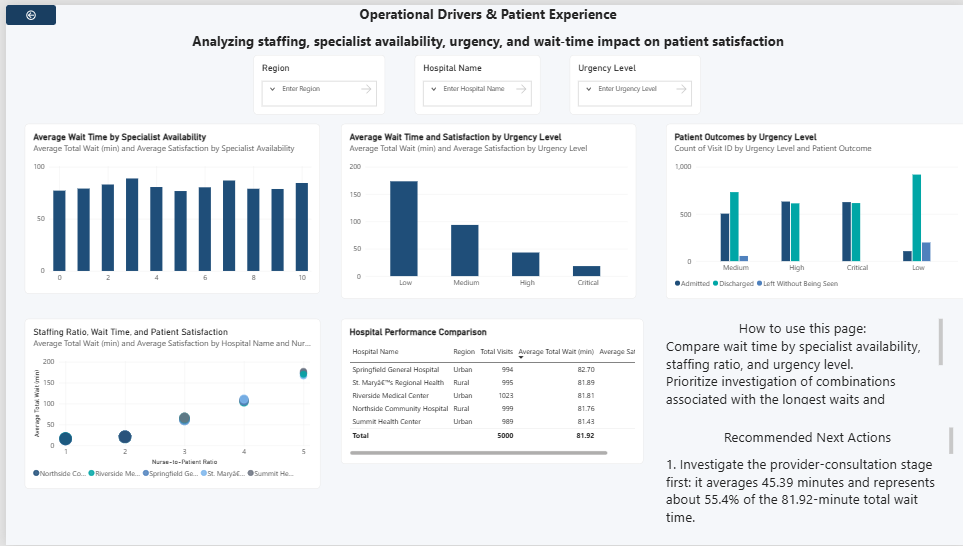

This screenshot's page, from the dashboard's own definition file:
{"tool":"powerbi","page":{"name":"Operational Drivers & Patient Experience","canvas":[1920,1080],"ordinal":1},"visuals":[{"type":"textbox","box":[35,0,1858.7,119.4],"z":0},{"type":"clusteredColumnChart","title":"Average Wait Time by Specialist Availability","fields":{"Category":["ER_Visits.Specialist Availability"],"Y":["ER_Visits.Average Total Wait (min)"]},"box":[37,236.7,590.7,339.6],"z":1000},{"type":"scatterChart","title":"Staffing Ratio, Wait Time, and Patient Satisfaction","fields":{"Series":["ER_Visits.Hospital Name"],"Size":["ER_Visits.Average Satisfaction"],"X":["ER_Visits.Nurse-to-Patient Ratio"],"Y":["ER_Visits.Average Total Wait (min)"]},"box":[37,627.8,591,340],"z":2000},{"type":"clusteredColumnChart","title":"Average Wait Time and Satisfaction by Urgency Level","fields":{"Category":["ER_Visits.Urgency Level"],"Y":["ER_Visits.Average Total Wait (min)"]},"box":[669,236.7,590.7,349.9],"z":3000},{"type":"clusteredColumnChart","title":"Patient Outcomes by Urgency Level","fields":{"Category":["ER_Visits.Urgency Level"],"Series":["ER_Visits.Patient Outcome"],"Y":["CountNonNull(ER_Visits.Visit ID)"]},"box":[1319.4,236.7,601,350],"z":4000},{"type":"tableEx","title":"Hospital Performance Comparison","fields":{"Values":["ER_Visits.Hospital Name","ER_Visits.Region","ER_Visits.Total Visits","ER_Visits.Average Total Wait (min)","ER_Visits.Average Satisfaction"]},"box":[669,627.8,605.1,290.2],"z":5000},{"type":"actionButton","box":[0,0,100,40],"z":6000},{"type":"slicer","fields":{"Values":["ER_Visits.Region"]},"box":[496.1,98.8,263.5,119.4],"z":7000},{"type":"slicer","fields":{"Values":["ER_Visits.Hospital Name"]},"box":[817.2,98.8,251.1,119.4],"z":8000},{"type":"slicer","fields":{"Values":["ER_Visits.Urgency Level"]},"box":[1128,98.8,261.4,119.4],"z":9000},{"type":"textbox","box":[1319.4,627.8,553.7,170.8],"z":10000},{"type":"textbox","box":[1319.4,846,574.3,195.5],"z":11000}]}

Visuals, with their boxes in screenshot pixels (x1, y1, x2, y2), scaled from the page's 1920x1080 canvas onto the 963x546 screenshot:
textbox: (18, 0, 950, 60)
"Average Wait Time by Specialist Availability" clusteredColumnChart: (19, 120, 315, 291)
"Staffing Ratio, Wait Time, and Patient Satisfaction" scatterChart: (19, 317, 315, 489)
"Average Wait Time and Satisfaction by Urgency Level" clusteredColumnChart: (336, 120, 632, 297)
"Patient Outcomes by Urgency Level" clusteredColumnChart: (662, 120, 962, 297)
"Hospital Performance Comparison" tableEx: (336, 317, 639, 464)
actionButton: (0, 0, 50, 20)
slicer - ER_Visits.Region: (249, 50, 381, 110)
slicer - ER_Visits.Hospital Name: (410, 50, 536, 110)
slicer - ER_Visits.Urgency Level: (566, 50, 697, 110)
textbox: (662, 317, 939, 404)
textbox: (662, 428, 950, 527)
